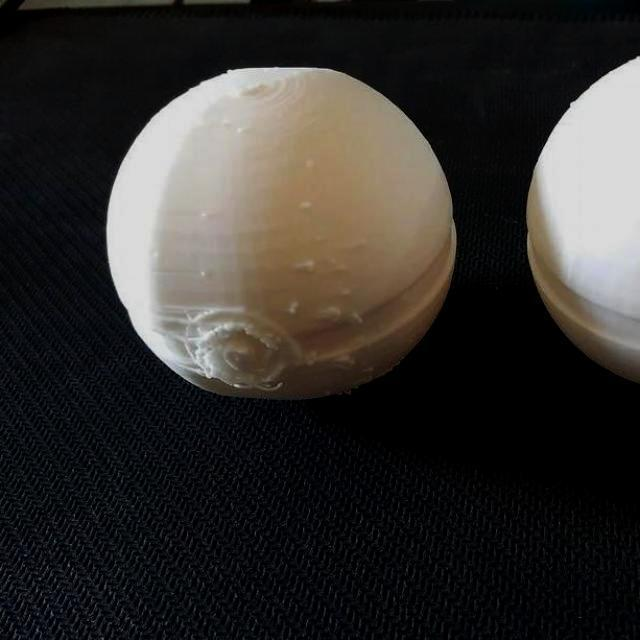zits: (322, 304, 344, 324), (334, 352, 352, 371), (284, 300, 302, 318), (302, 256, 316, 272), (296, 199, 309, 215), (232, 125, 248, 137), (339, 286, 350, 300), (303, 357, 316, 367), (198, 269, 208, 280)
